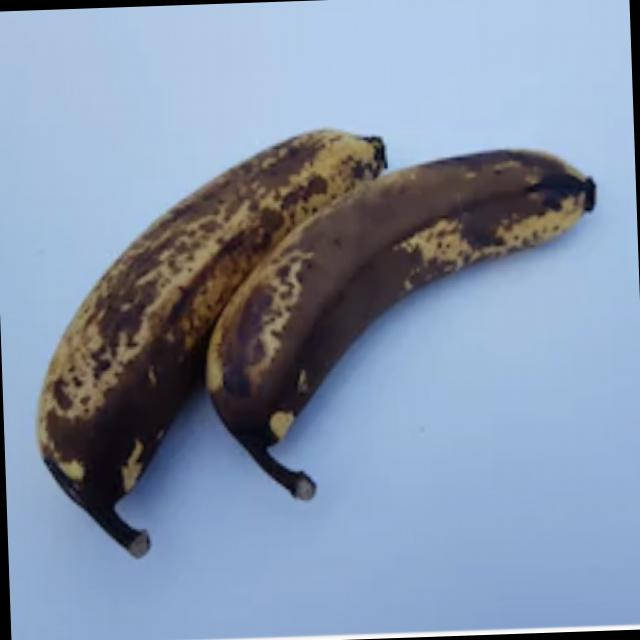rotten-banana: (26, 107, 402, 520), (204, 152, 607, 474)
